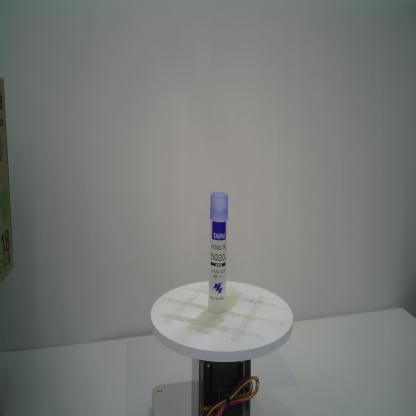Stationery: (207, 190, 229, 315)
